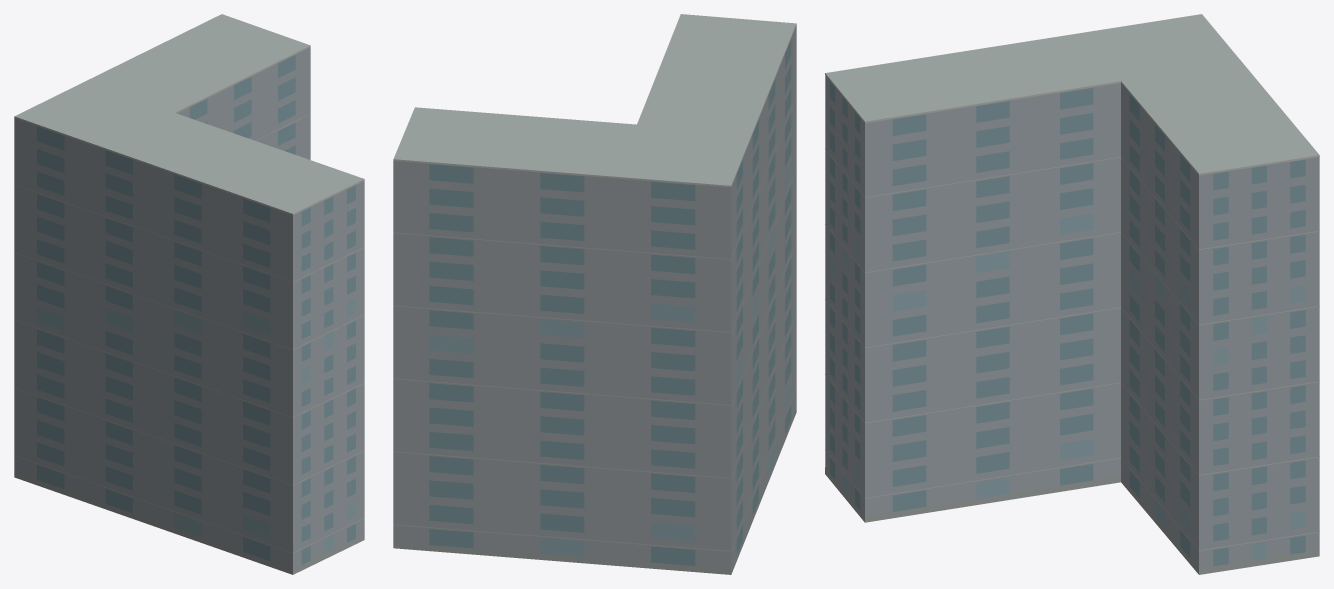
File: residential-17a760ef-1465-47c3-84f6-e9d614dfef20.glb
3 views of the same model, side by side, from view 1: azimuth 30°, elevation 25°; view 2: azimuth 150°, elevation 25°; view 3: azimuth 270°, elevation 25° (orthographic). The views are drawn at different scales.
Parts seen in each view (by area): view 1: residential-17a760ef-1465-47c3-84f6-e9d614dfef20.tmp; view 2: residential-17a760ef-1465-47c3-84f6-e9d614dfef20.tmp; view 3: residential-17a760ef-1465-47c3-84f6-e9d614dfef20.tmp.
Part boxes in pixels (box(x1,y1,x2,y2)): residential-17a760ef-1465-47c3-84f6-e9d614dfef20.tmp: box(14, 14, 364, 574); residential-17a760ef-1465-47c3-84f6-e9d614dfef20.tmp: box(393, 14, 796, 574); residential-17a760ef-1465-47c3-84f6-e9d614dfef20.tmp: box(825, 14, 1319, 574).
Size of the model in its own units: 46.18 by 54 by 60.37.
